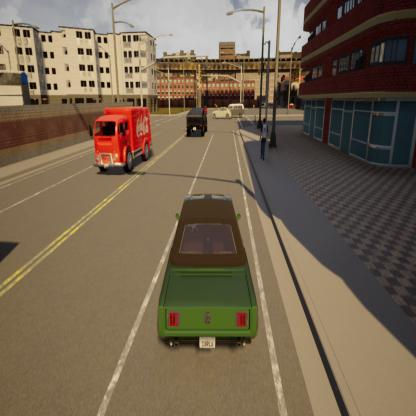Cars: (159, 196, 256, 350), (94, 108, 152, 171), (187, 108, 208, 134), (212, 108, 232, 122), (228, 102, 245, 118), (202, 105, 207, 114)
Pedestrian: (260, 115, 268, 161)
